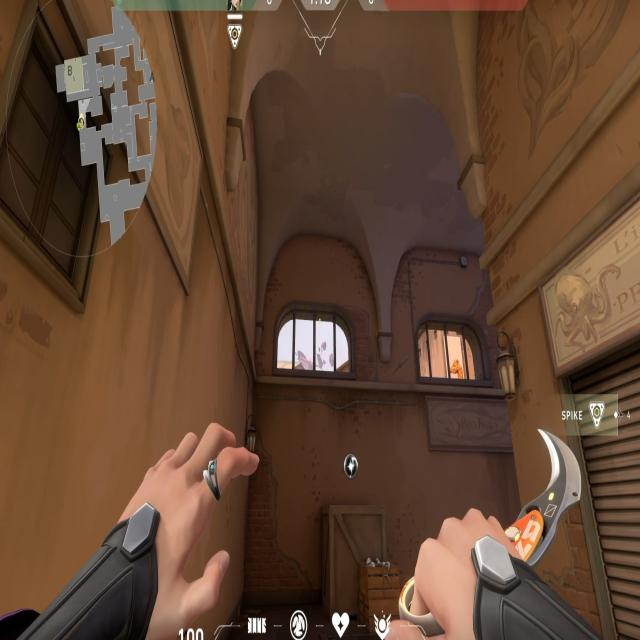B_Main_Wallbang: (311, 451, 411, 634)
Throwables: (271, 293, 365, 410), (408, 307, 500, 416)
